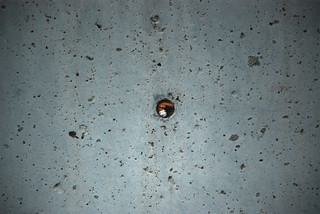Spalling: (1, 1, 320, 214), (155, 97, 175, 119)
